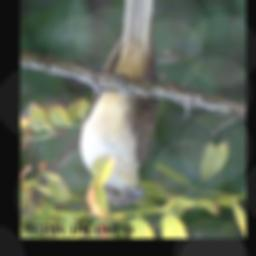Cuckoo: (79, 0, 164, 208)
